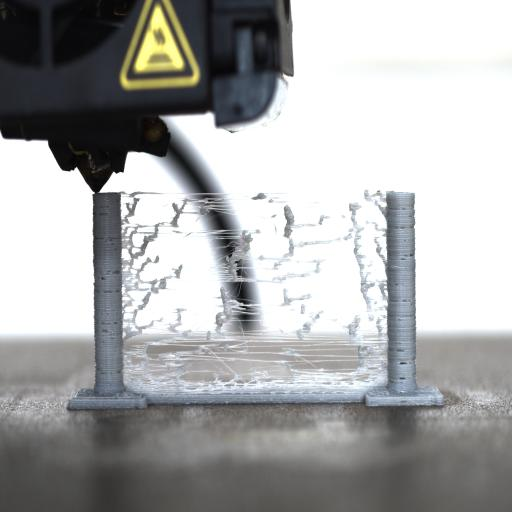stringing: (124, 189, 388, 389)
